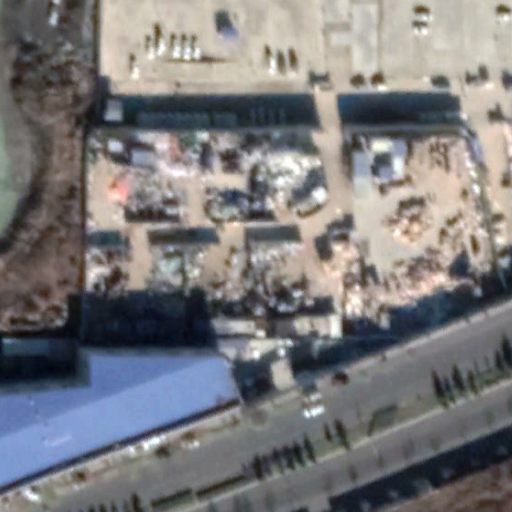msw: (80, 126, 497, 337)
